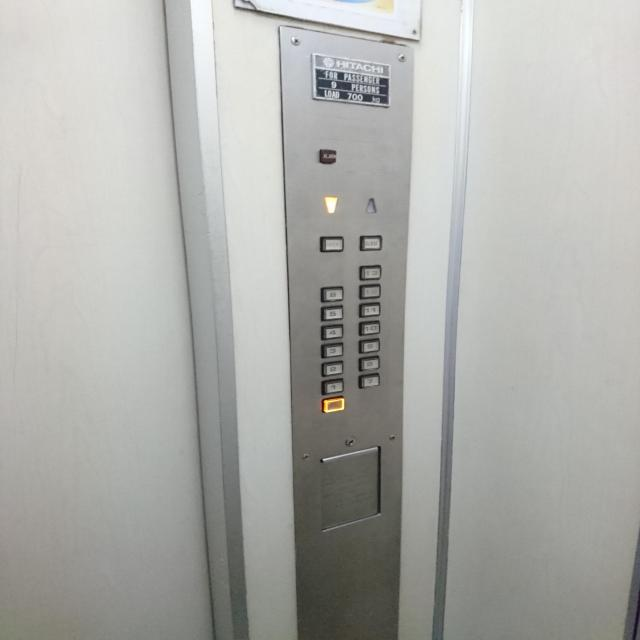1: (321, 379, 344, 395)
10: (358, 320, 381, 337)
11: (358, 302, 380, 317)
12: (358, 283, 382, 300)
13: (358, 264, 382, 281)
2: (320, 361, 343, 377)
3: (321, 343, 343, 359)
4: (321, 325, 343, 341)
5: (321, 305, 343, 322)
6: (321, 286, 344, 302)
7: (358, 372, 380, 389)
8: (358, 355, 381, 372)
9: (358, 337, 380, 354)
blur: (322, 397, 345, 414)
keyhole: (344, 435, 356, 449)
text: (318, 234, 345, 253), (359, 234, 383, 251)
text_alarm bell: (318, 147, 337, 165)
